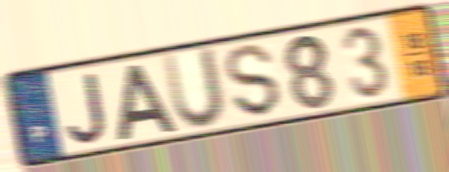3: (340, 23, 394, 103)
8: (282, 33, 337, 112)
A: (115, 61, 179, 143)
J: (64, 69, 109, 147)
S: (223, 42, 284, 119)
U: (159, 45, 229, 133)
